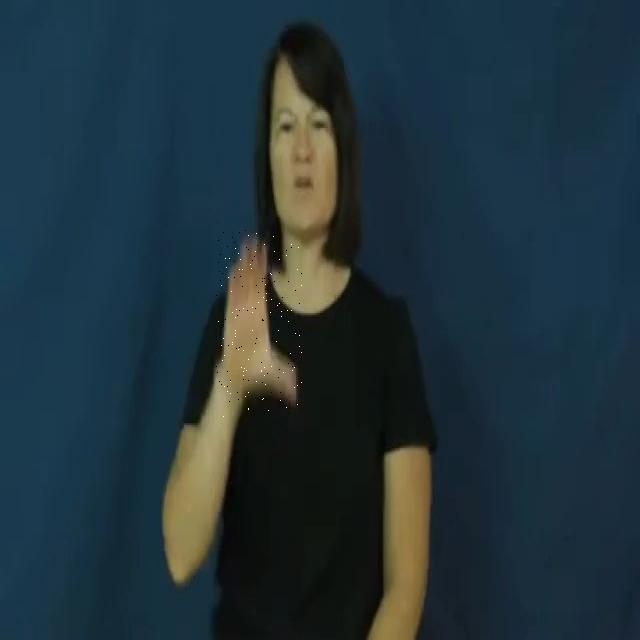cold: (216, 228, 302, 418)
